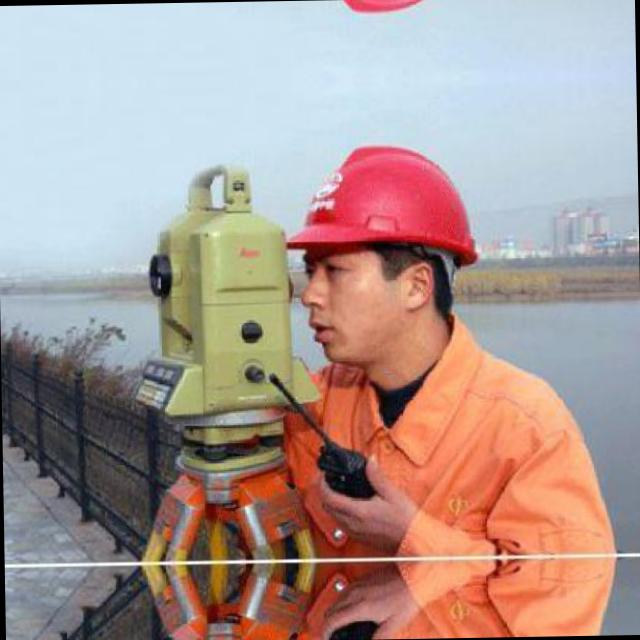helmet: (270, 123, 503, 394)
